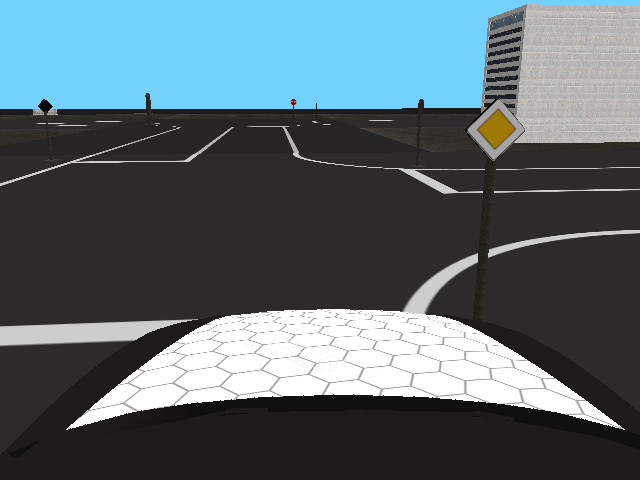priority: (466, 100, 525, 161)
